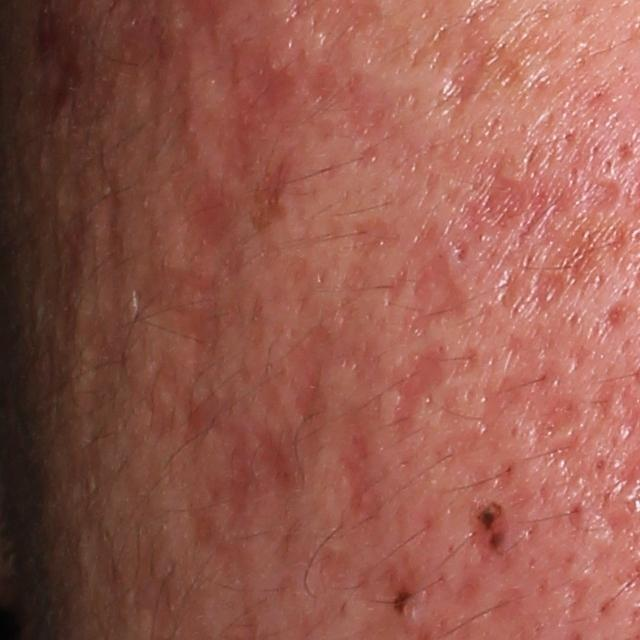atrophic_scar: (74, 310, 243, 443), (452, 150, 624, 230), (275, 324, 384, 432), (132, 266, 225, 366), (532, 218, 625, 310), (398, 247, 476, 346), (385, 340, 453, 440), (88, 181, 134, 322), (432, 20, 502, 111), (170, 177, 242, 263), (334, 407, 383, 525), (521, 395, 586, 471), (215, 419, 256, 520), (253, 415, 302, 498), (245, 153, 289, 236), (347, 218, 404, 262), (335, 261, 370, 298), (601, 298, 628, 334)
nevus: (467, 496, 512, 560), (386, 587, 419, 620)
